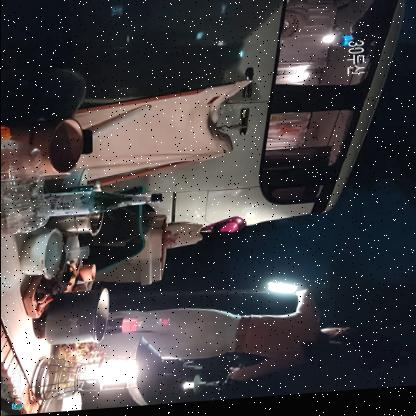streamer: (93, 284, 358, 396)
